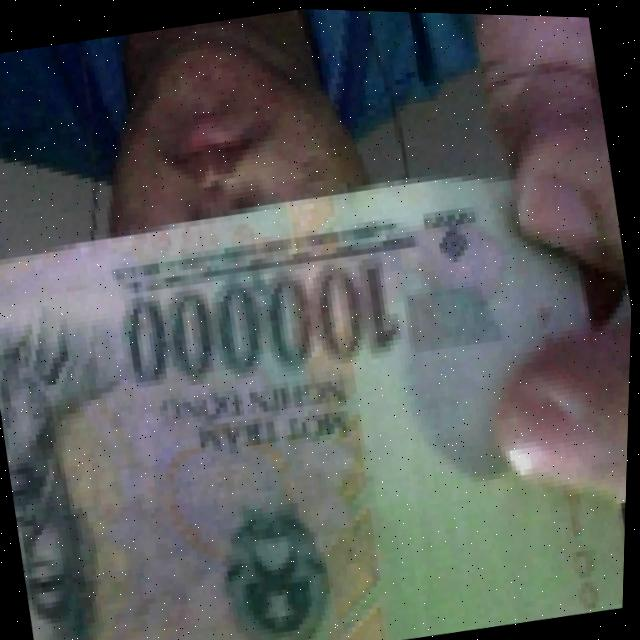100 000 VND: (0, 139, 637, 640)
